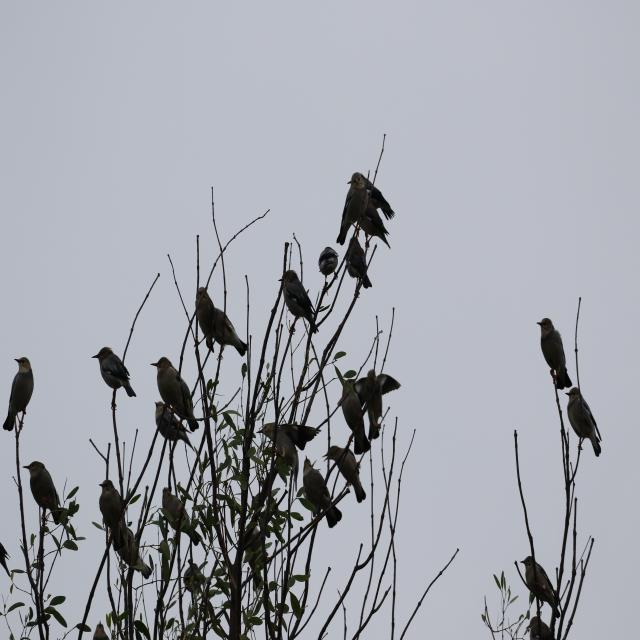bird: (256, 424, 320, 492), (150, 357, 201, 431), (91, 347, 136, 411), (304, 456, 342, 528), (278, 269, 318, 334), (322, 445, 366, 504), (536, 318, 573, 388), (565, 388, 602, 458), (520, 556, 560, 618), (23, 462, 61, 524), (153, 402, 194, 459), (162, 488, 202, 546), (342, 378, 371, 455), (337, 172, 368, 244), (112, 527, 153, 581), (8, 357, 34, 432), (210, 307, 247, 357), (243, 524, 270, 584), (346, 236, 372, 298), (359, 202, 390, 249), (99, 481, 124, 533), (196, 287, 214, 353), (177, 563, 202, 599), (319, 247, 338, 294), (369, 370, 381, 439), (526, 617, 556, 640)
